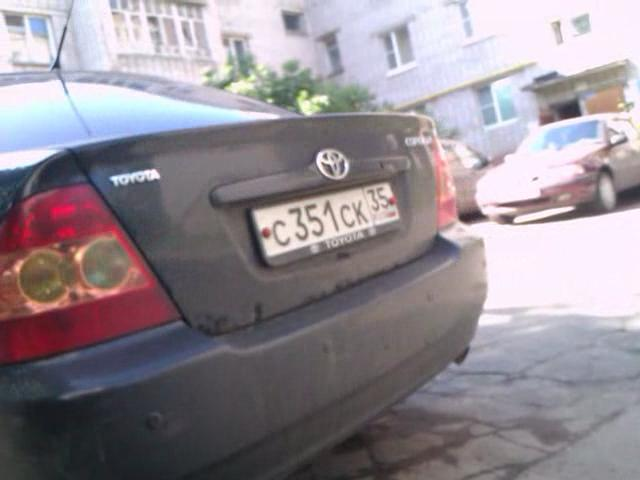car license plate: (252, 176, 404, 260)
